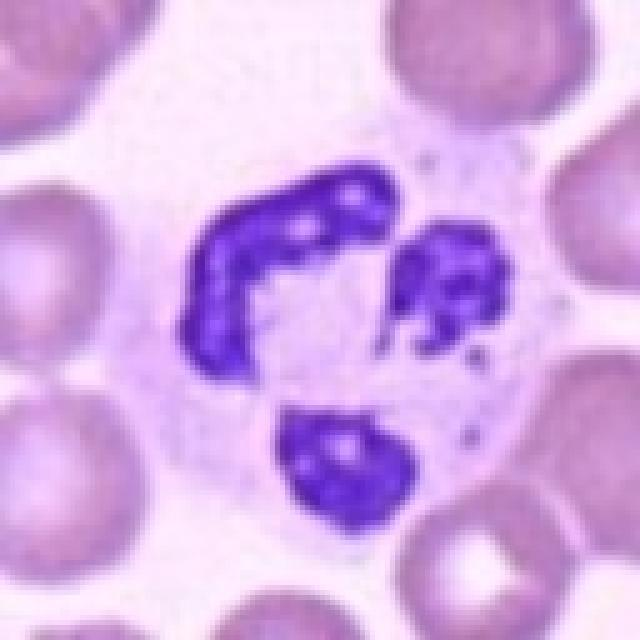neutro: (55, 118, 544, 552)
